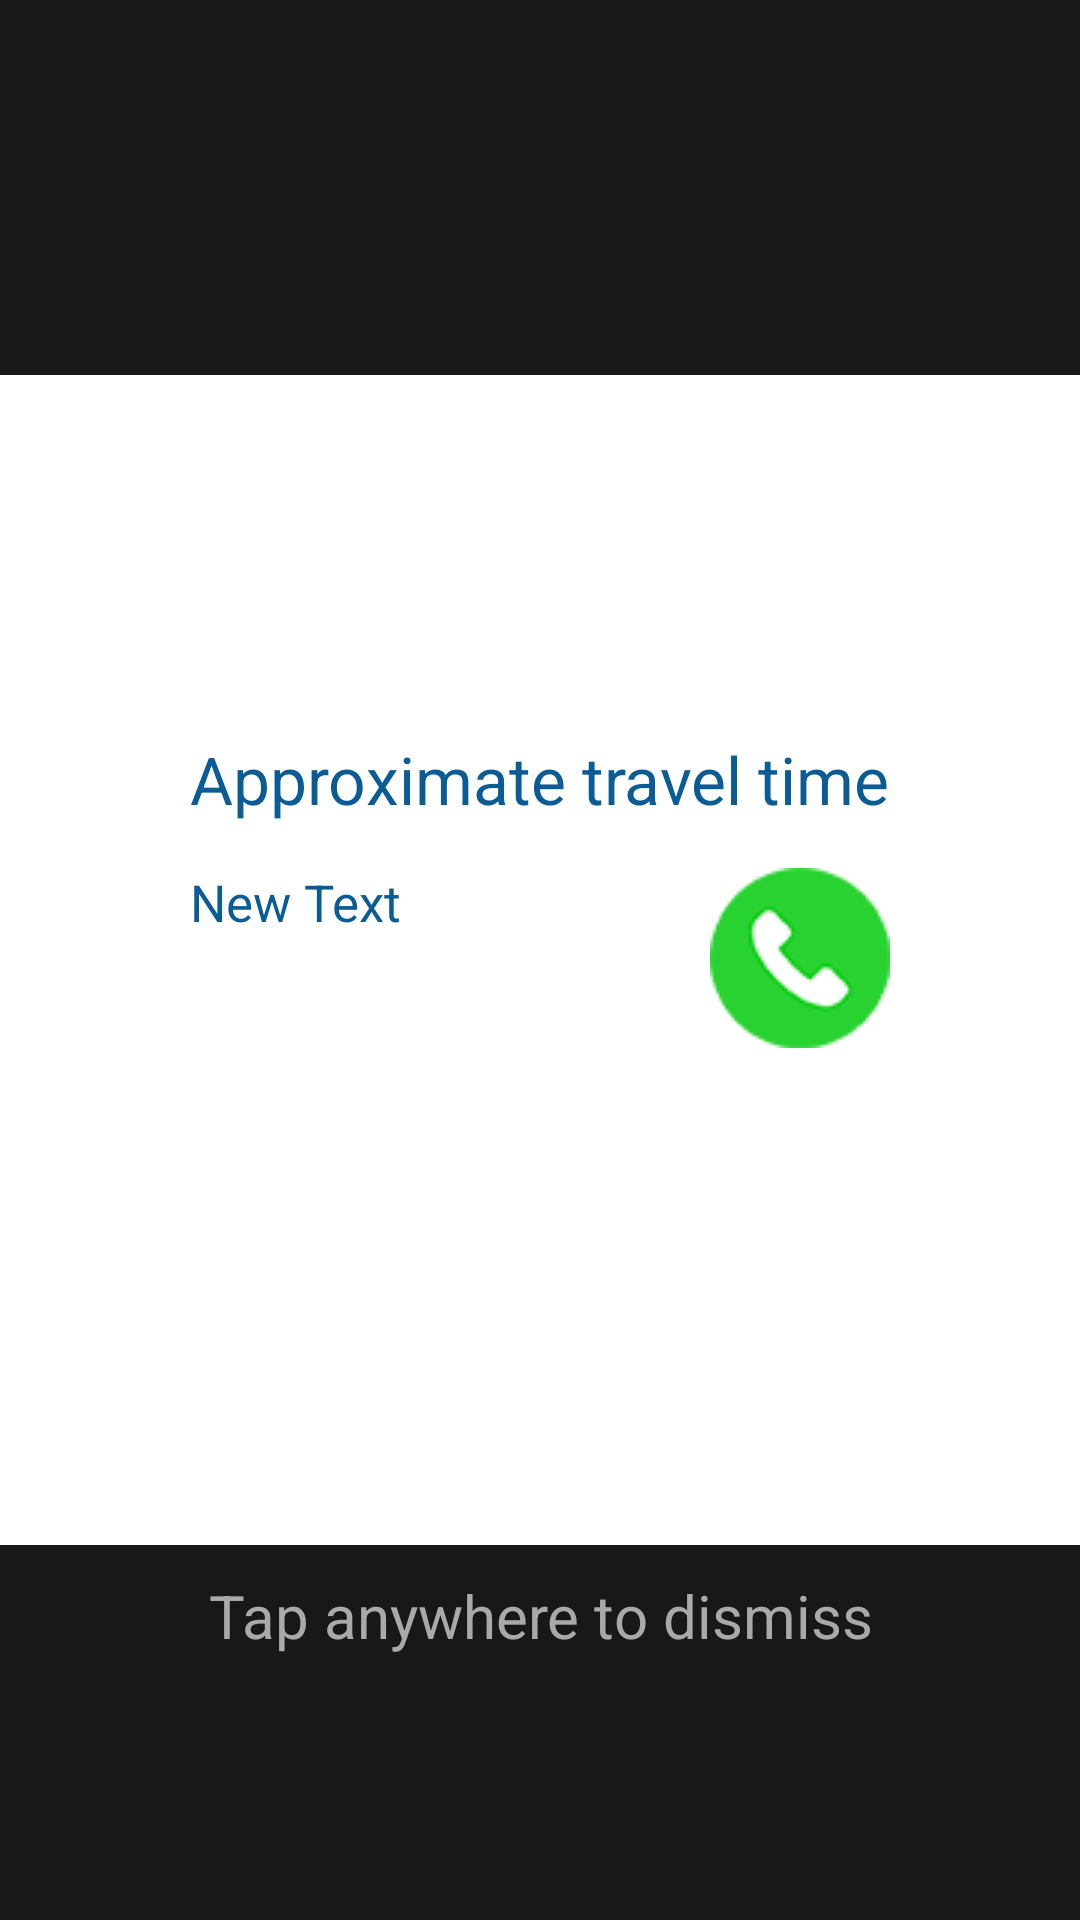

Where to tap for icons on this 1080 × 1920 app screen, as (x=x, y=y):
phone: (x=800, y=958)
